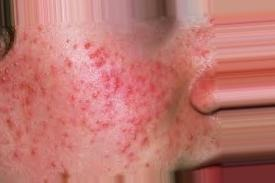Acne: (3, 32, 221, 171)
